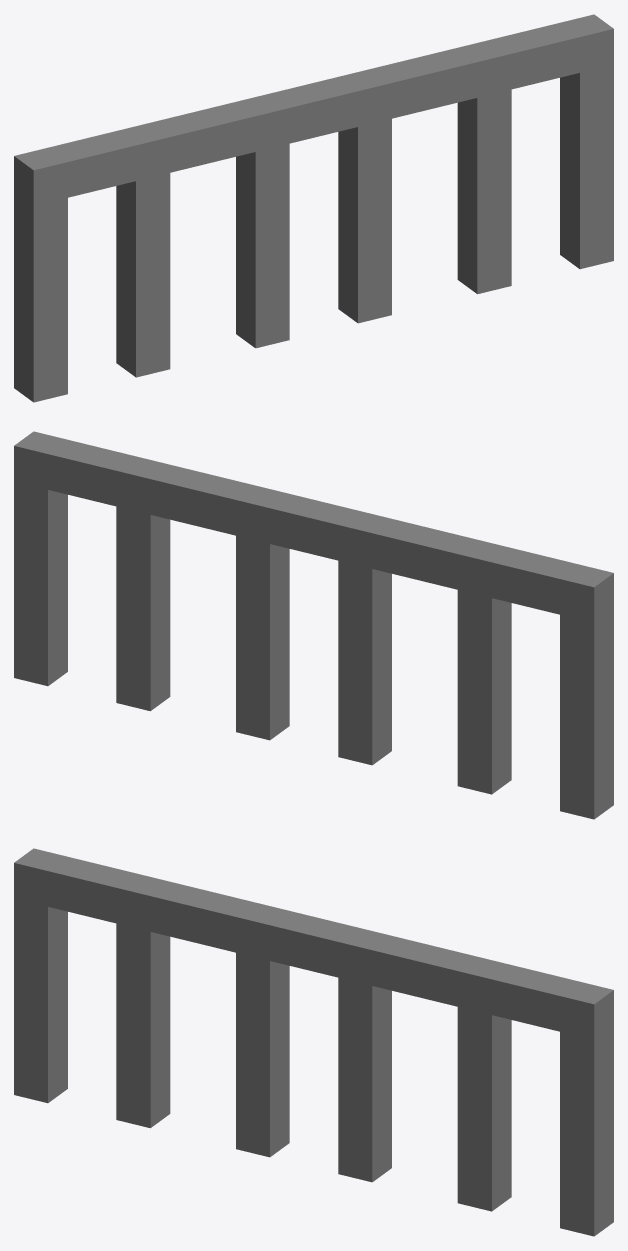
The picture shows the model from 3 angles, top to bottom: view 1: azimuth 30°, elevation 25°; view 2: azimuth 150°, elevation 25°; view 3: azimuth 330°, elevation 25°; orthographic projection.
Parts seen in each view (by area): view 1: Content; view 2: Content; view 3: Content.
Part boxes in pixels (x1,y1,x2,y2): Content: [14, 14, 613, 402]; Content: [14, 431, 613, 819]; Content: [14, 848, 613, 1236].
Bounding box in the file's own units: 34 × 13 × 2.
1 material, 1 textured.
